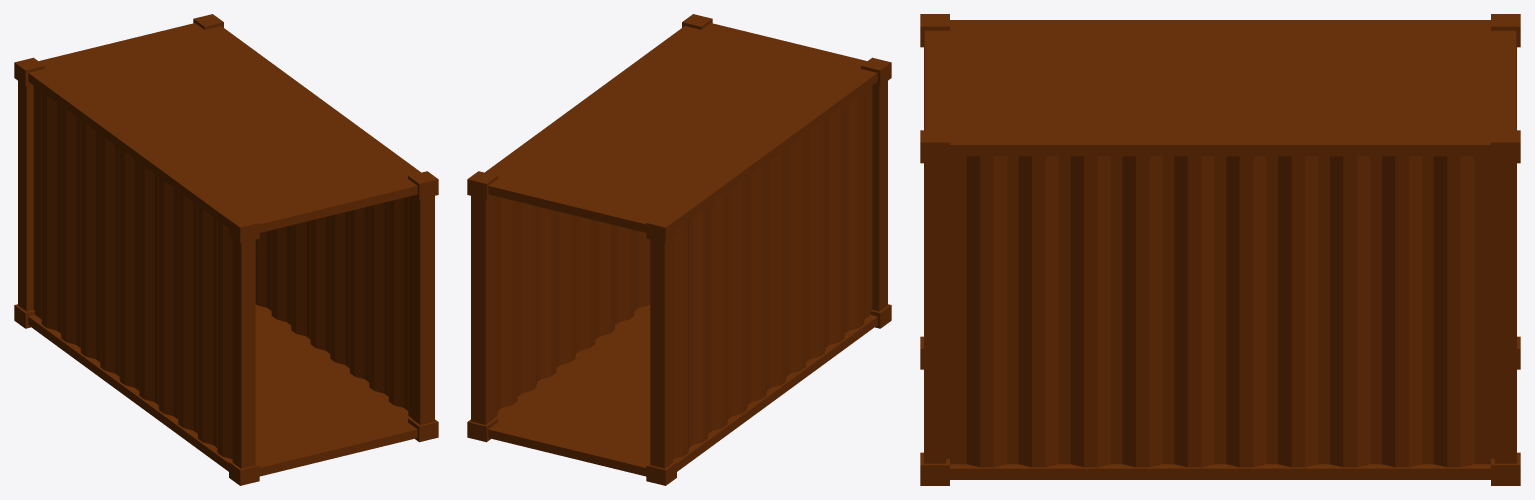
Rendered from LP_PostApoc_2x4_ShippingContainer_Open.fbx.
3 renders of one model, left to right at view 1: azimuth 30°, elevation 25°; view 2: azimuth 150°, elevation 25°; view 3: azimuth 270°, elevation 25°, orthographic. The views are drawn at different scales.
Parts seen in each view (by area): view 1: 2x4_ShippingContainer_Open; view 2: 2x4_ShippingContainer_Open; view 3: 2x4_ShippingContainer_Open.
Boxes of the visible parts, x1,y1,x2,y2 form: 2x4_ShippingContainer_Open: (14,14,438,485); 2x4_ShippingContainer_Open: (467,14,891,485); 2x4_ShippingContainer_Open: (920,14,1520,485).
Size of the model in its own units: 206 by 256 by 406.
